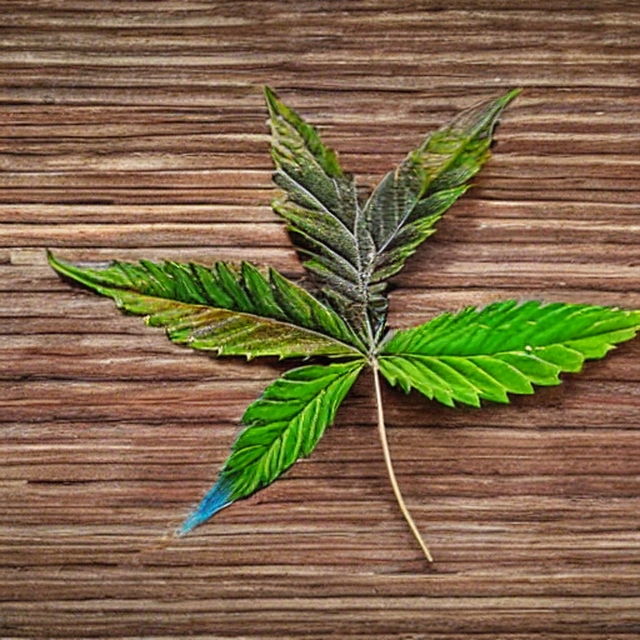Marijuana Leaf: (44, 81, 640, 563)
